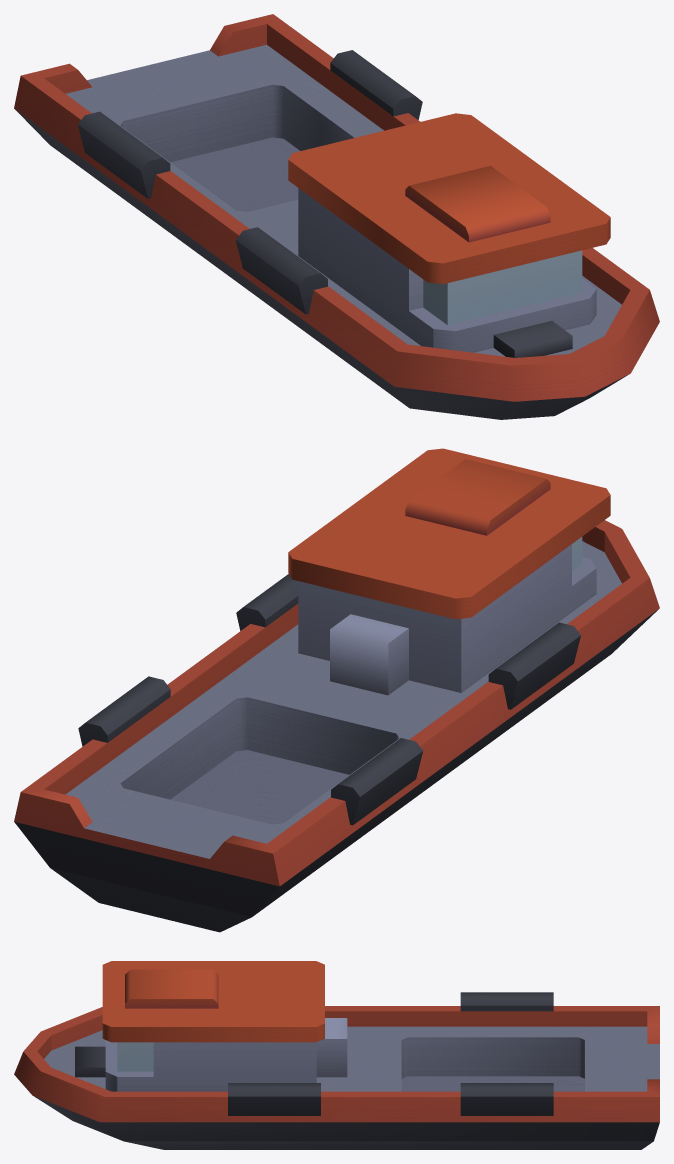
Rendered from ship_cargo_c.glb.
The picture shows the model from 3 angles, top to bottom: view 1: azimuth 30°, elevation 25°; view 2: azimuth 150°, elevation 25°; view 3: azimuth 270°, elevation 25°; orthographic projection. The views are drawn at different scales.
Visible parts, largest first — view 1: ship-cargo-c; view 2: ship-cargo-c; view 3: ship-cargo-c.
Part boxes in pixels (x1,y1,x2,y2): ship-cargo-c: (14,14,659,419); ship-cargo-c: (14,448,659,932); ship-cargo-c: (14,961,659,1149).
Bounding box in the file's own units: 3.92 × 2.59 × 10.55.
Materials: 1 (1 with a texture image).
